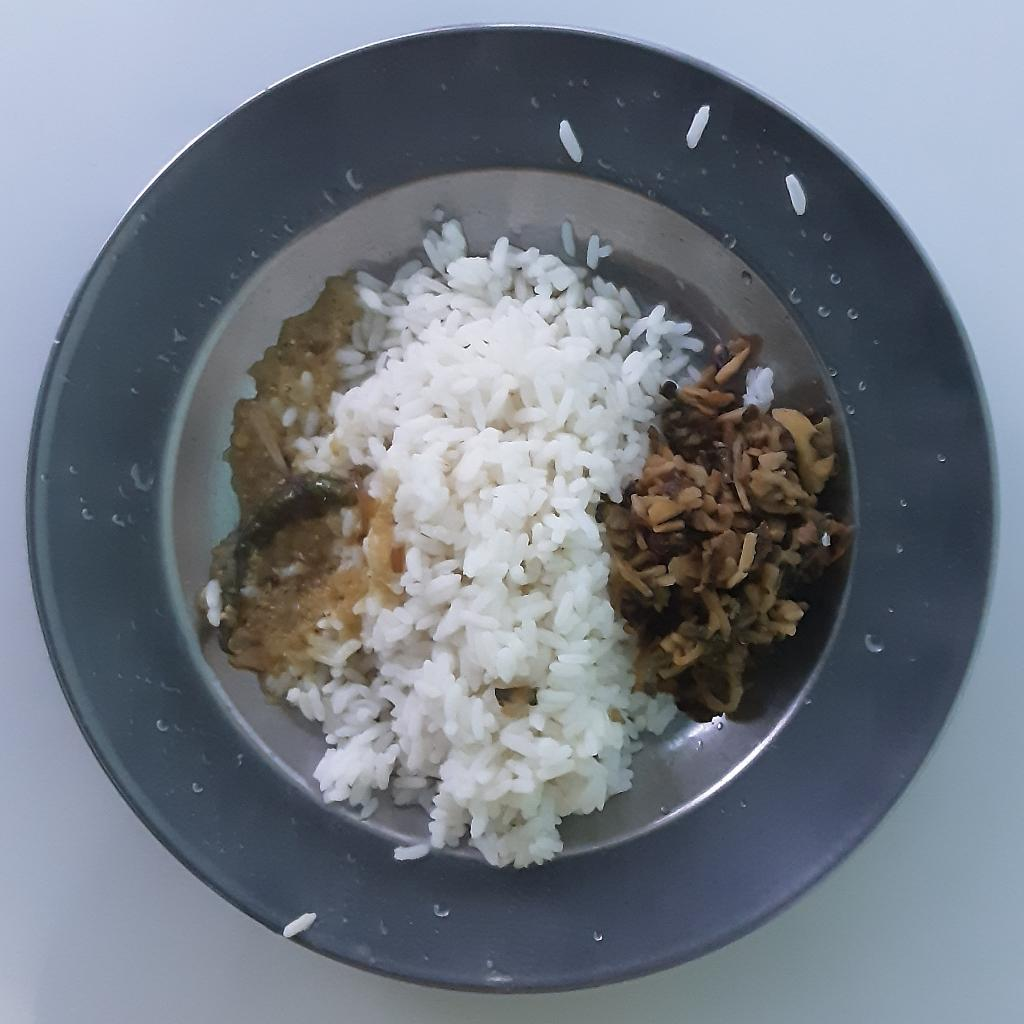daal: (206, 270, 395, 676)
korola-vaji: (600, 337, 852, 720)
rice: (260, 203, 708, 868)
